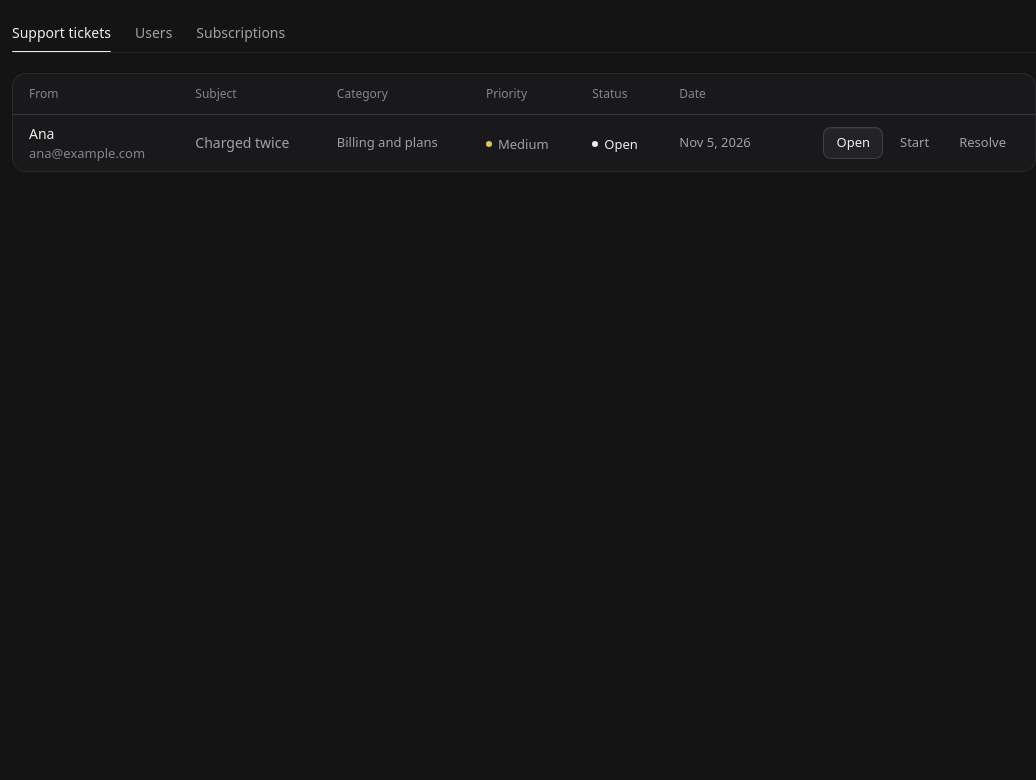
Test case: AdminClient › shows a reply once, even when the first load of the conversation answers after it was saved
Click the button "Open".
click(853, 143)  # box [824,127,883,159]
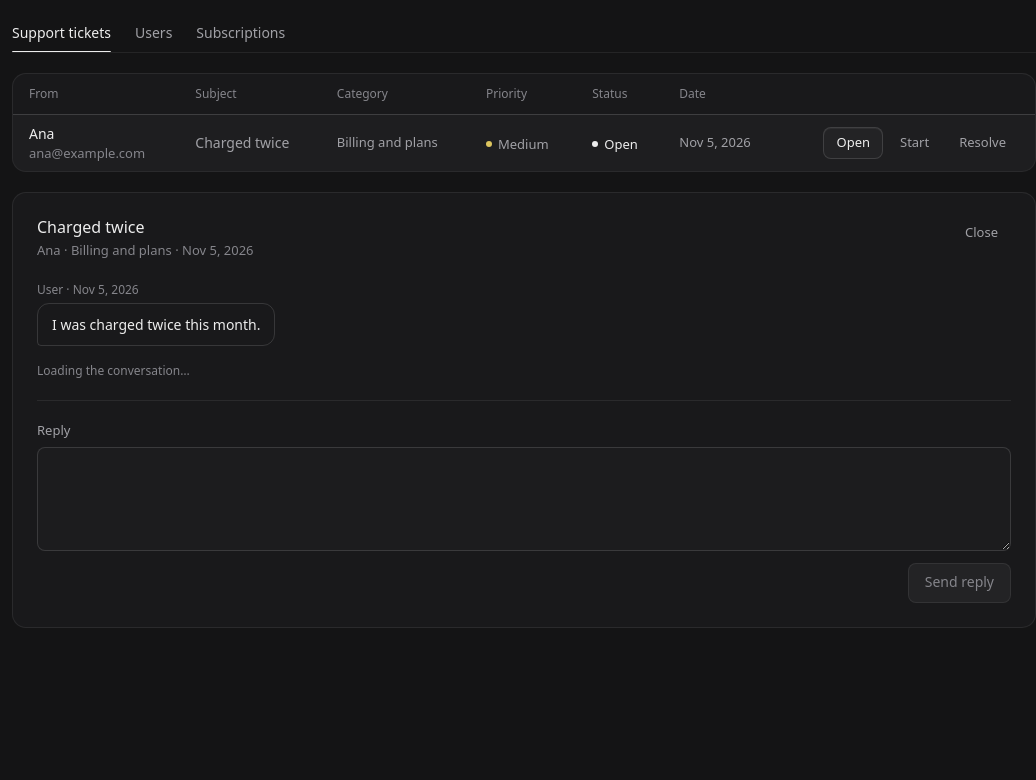
Type "Refunded the second charge" into the text box labelled "Reply".
click(524, 499); type("Refunded the second charge")  # box [37,447,1011,551]
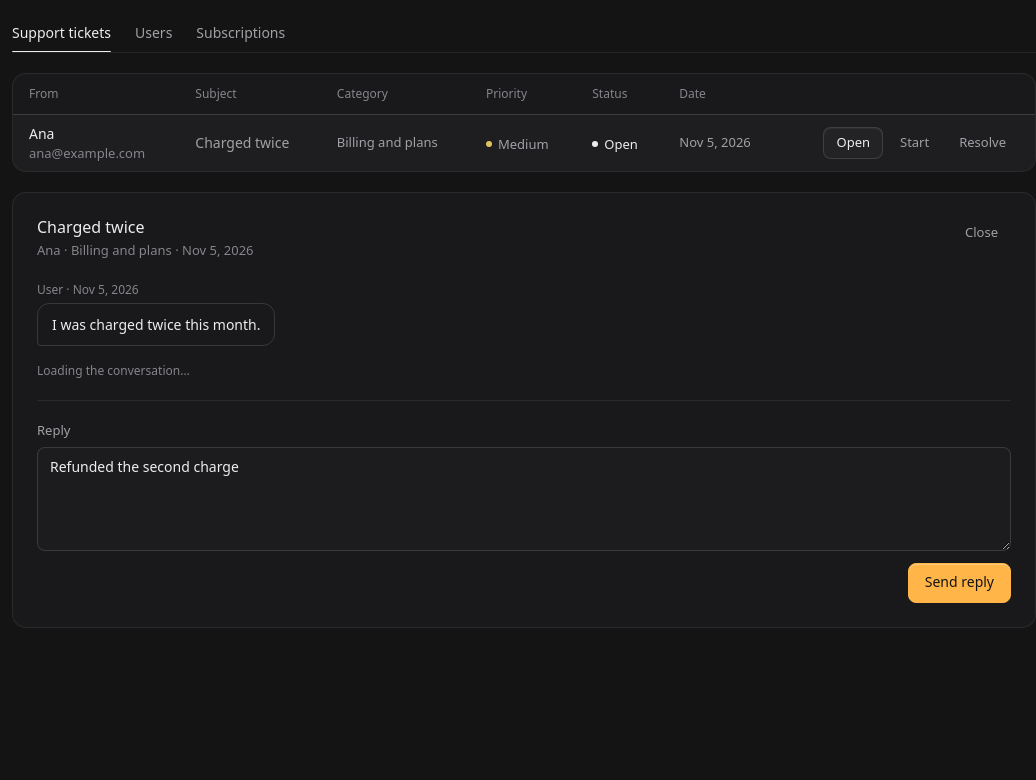
Click the button "Send reply".
click(959, 583)  # box [908,563,1011,603]
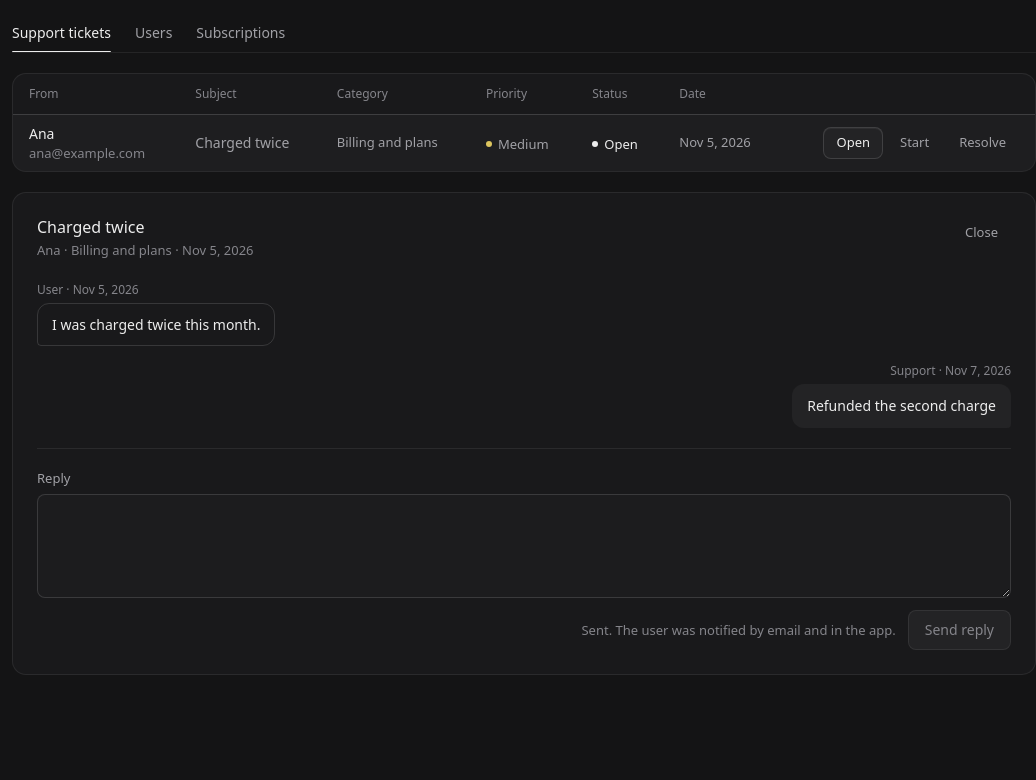
Check: the text "Sent. The user was notified by email and in the app." is shown, box [582,621,896,640]
Check: the text "Refunded the second charge" is shown once, box [792,384,1011,428]
Check: the text box labelled "Reply" is empty, box [37,494,1011,598]
